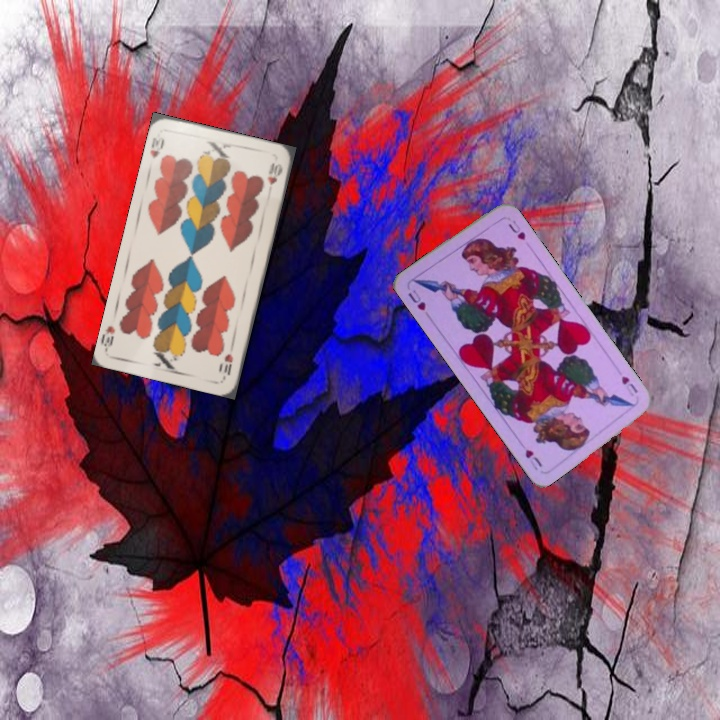H10: (146, 129, 167, 161), (220, 350, 236, 378)
HU: (404, 285, 428, 313), (617, 372, 641, 399)
